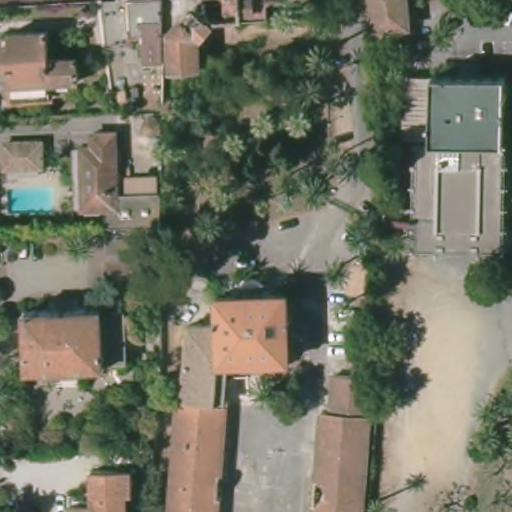pool: (2, 182, 55, 213)
